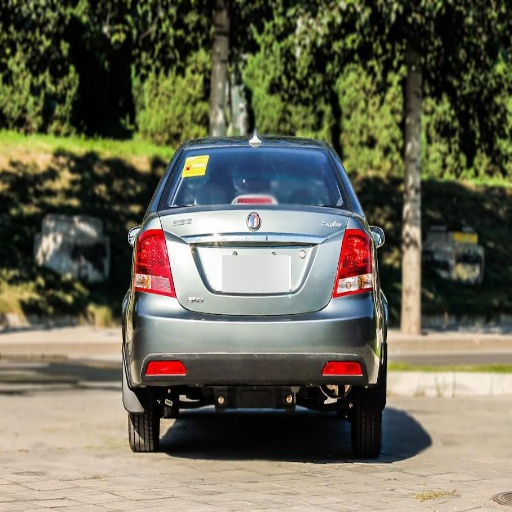back_bumper: (124, 289, 384, 410)
